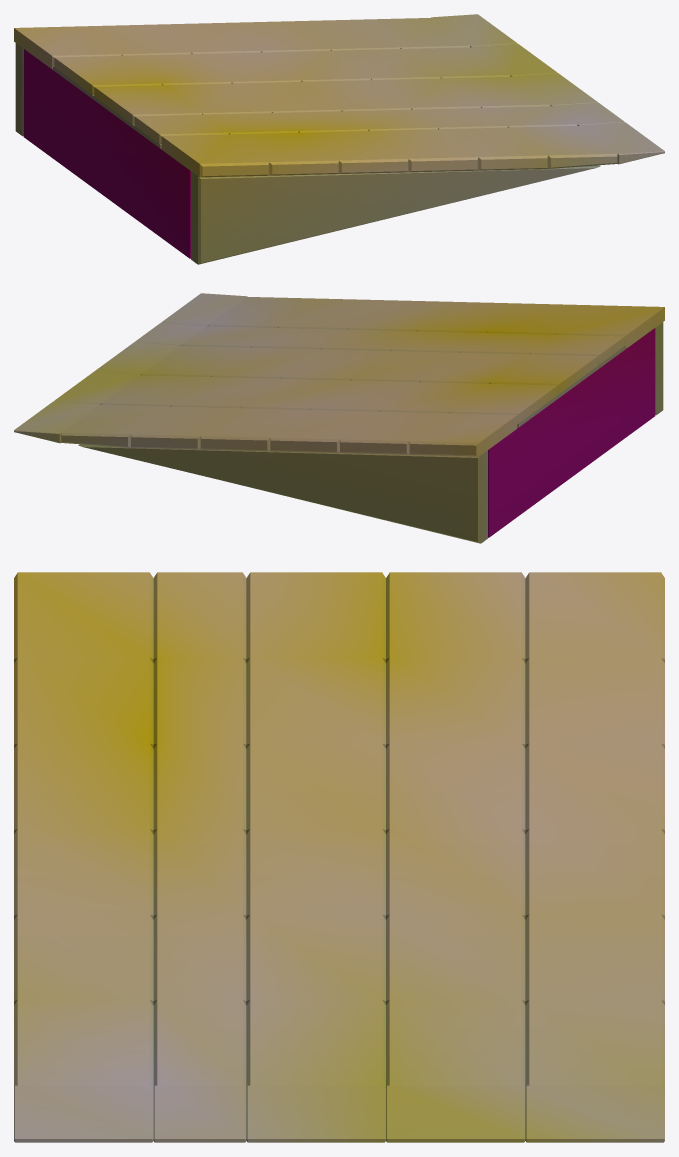
File: Platform_Ramp_End_NoStripe.glb
The picture shows the model from 3 angles, top to bottom: view 1: azimuth 30°, elevation 25°; view 2: azimuth 150°, elevation 25°; view 3: azimuth 270°, elevation 25°; orthographic projection. The views are drawn at different scales.
Parts seen in each view (by area): view 1: Platform_Ramp_End_NoStripe; view 2: Platform_Ramp_End_NoStripe; view 3: Platform_Ramp_End_NoStripe.
Part boxes in pixels (x1,y1,x2,y2): Platform_Ramp_End_NoStripe: (14,14,664,264); Platform_Ramp_End_NoStripe: (14,293,664,543); Platform_Ramp_End_NoStripe: (14,572,664,1142).
Bounding box in the file's own units: 5 × 1.05 × 3.5.
